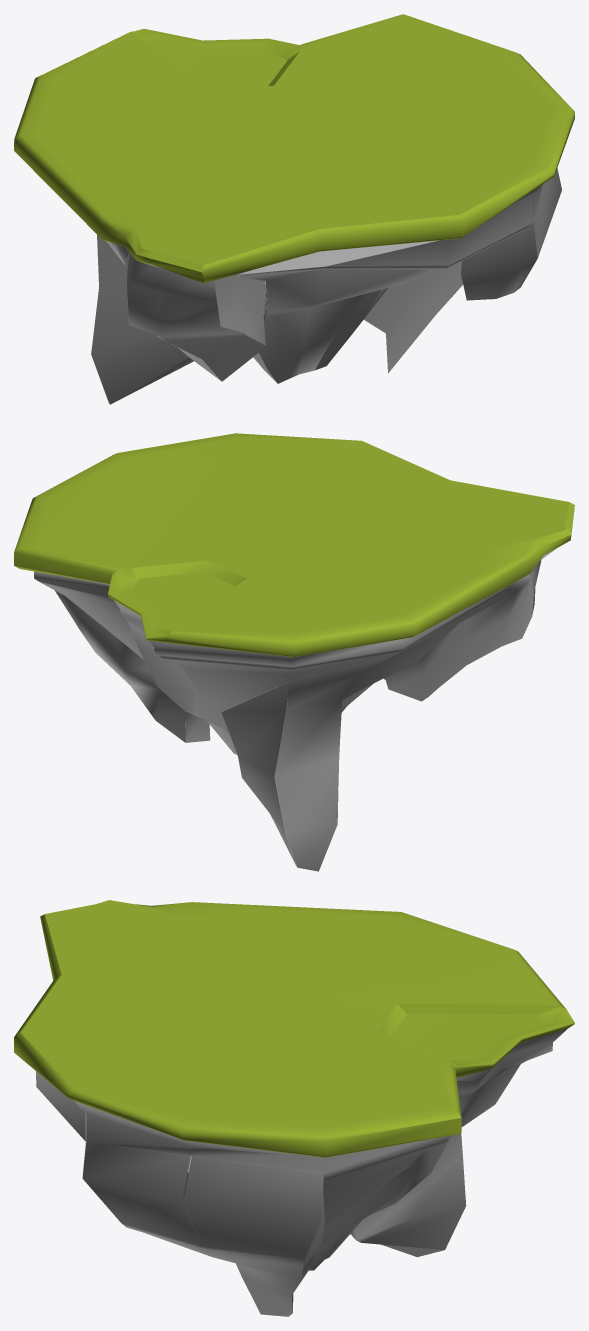
File: new forest idea - Copy.fbx
3 renders of one model, top to bottom at view 1: azimuth 30°, elevation 25°; view 2: azimuth 150°, elevation 25°; view 3: azimuth 270°, elevation 25°, orthographic. The views are drawn at different scales.
Parts seen in each view (by area): view 1: polySurface29_island_0.014; view 2: polySurface29_island_0.014; view 3: polySurface29_island_0.014.
Part boxes in pixels (bbox=[...]): polySurface29_island_0.014: bbox=[14, 14, 574, 404]; polySurface29_island_0.014: bbox=[14, 433, 574, 871]; polySurface29_island_0.014: bbox=[14, 900, 574, 1316].
Bounding box in the file's own units: 98.36 × 57.07 × 97.31.
